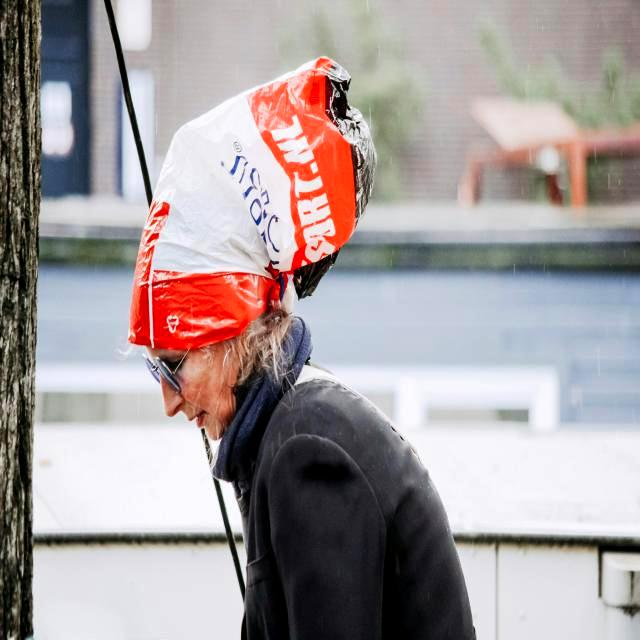no_hard_hat: (128, 57, 376, 350)
person: (129, 280, 476, 640)
